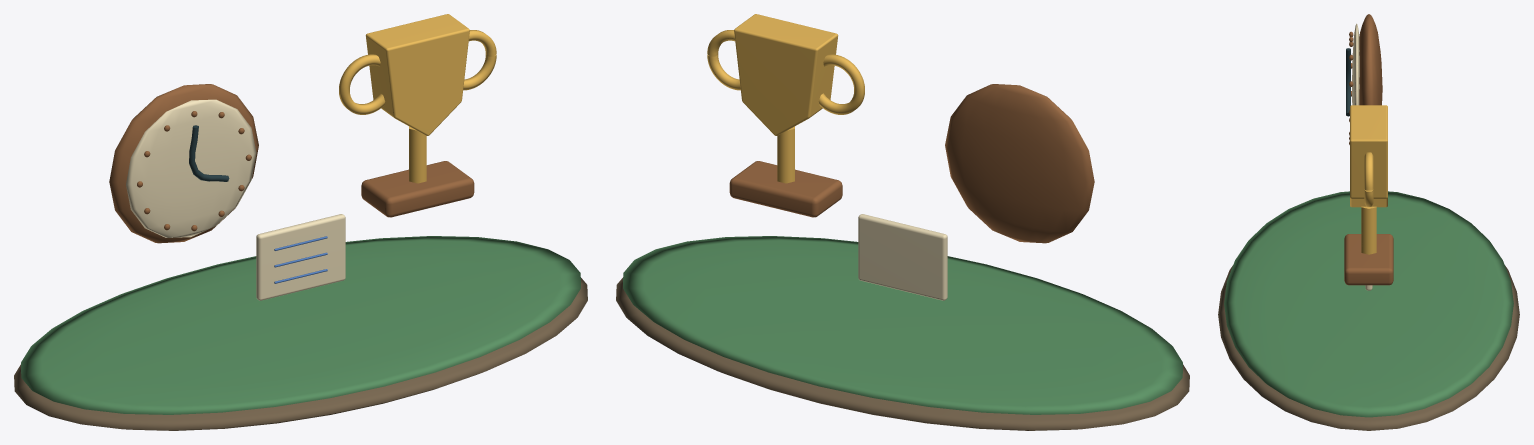
Rendered from complete-first-just-now-talent.glb.
3 views of the same model, side by side, from view 1: azimuth 30°, elevation 25°; view 2: azimuth 150°, elevation 25°; view 3: azimuth 270°, elevation 25° (orthographic). The views are drawn at different scales.
Parts seen in each view (by area): view 1: complete-first-just-now-talent_surface_01, complete-first-just-now-talent_surface_03, complete-first-just-now-talent_surface_05, complete-first-just-now-talent_surface_00, complete-first-just-now-talent_surface_02, complete-first-just-now-talent_surface_04; view 2: complete-first-just-now-talent_surface_01, complete-first-just-now-talent_surface_02, complete-first-just-now-talent_surface_05, complete-first-just-now-talent_surface_00, complete-first-just-now-talent_surface_03; view 3: complete-first-just-now-talent_surface_01, complete-first-just-now-talent_surface_00, complete-first-just-now-talent_surface_05, complete-first-just-now-talent_surface_02, complete-first-just-now-talent_surface_03, complete-first-just-now-talent_surface_04.
Part boxes in pixels (x1,y1,x2,y2): complete-first-just-now-talent_surface_01: (21, 236, 580, 414); complete-first-just-now-talent_surface_03: (126, 99, 345, 300); complete-first-just-now-talent_surface_05: (339, 14, 496, 183); complete-first-just-now-talent_surface_00: (14, 278, 587, 430); complete-first-just-now-talent_surface_02: (109, 84, 474, 243); complete-first-just-now-talent_surface_04: (189, 125, 229, 181); complete-first-just-now-talent_surface_01: (623, 236, 1182, 414); complete-first-just-now-talent_surface_02: (729, 84, 1094, 243); complete-first-just-now-talent_surface_05: (707, 14, 864, 183); complete-first-just-now-talent_surface_00: (616, 278, 1189, 430); complete-first-just-now-talent_surface_03: (858, 121, 1086, 300); complete-first-just-now-talent_surface_01: (1224, 191, 1513, 417); complete-first-just-now-talent_surface_00: (1218, 265, 1519, 430); complete-first-just-now-talent_surface_05: (1350, 105, 1387, 254); complete-first-just-now-talent_surface_02: (1344, 14, 1393, 285); complete-first-just-now-talent_surface_03: (1352, 23, 1372, 290); complete-first-just-now-talent_surface_04: (1346, 48, 1350, 116).
Size of the model in its own units: 4.56 by 2.36 by 2.5.
